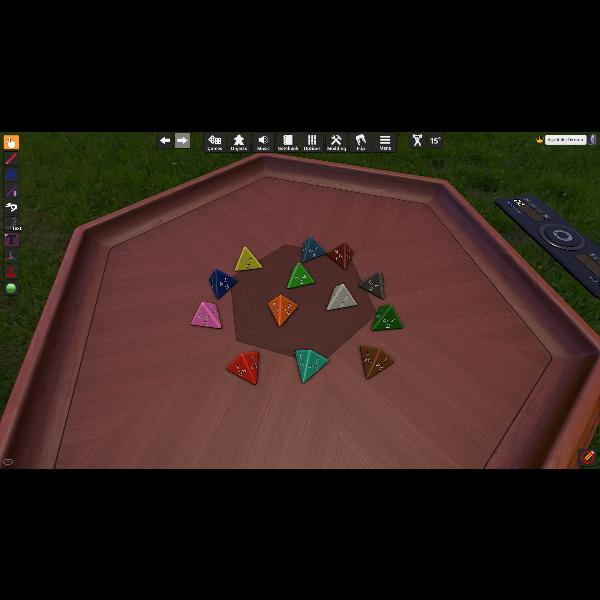d4: (360, 344, 394, 378), (295, 348, 327, 382), (226, 351, 258, 384), (268, 294, 296, 326), (327, 284, 357, 312), (210, 267, 236, 299), (372, 304, 403, 330), (191, 302, 221, 328), (357, 270, 383, 300), (234, 245, 262, 271), (326, 241, 352, 268), (287, 262, 313, 288), (302, 235, 324, 262)
